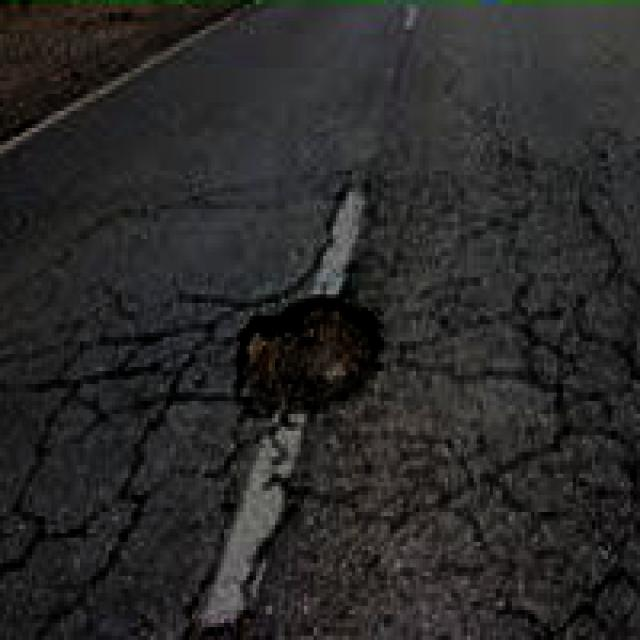Pothole: (215, 280, 399, 424)
